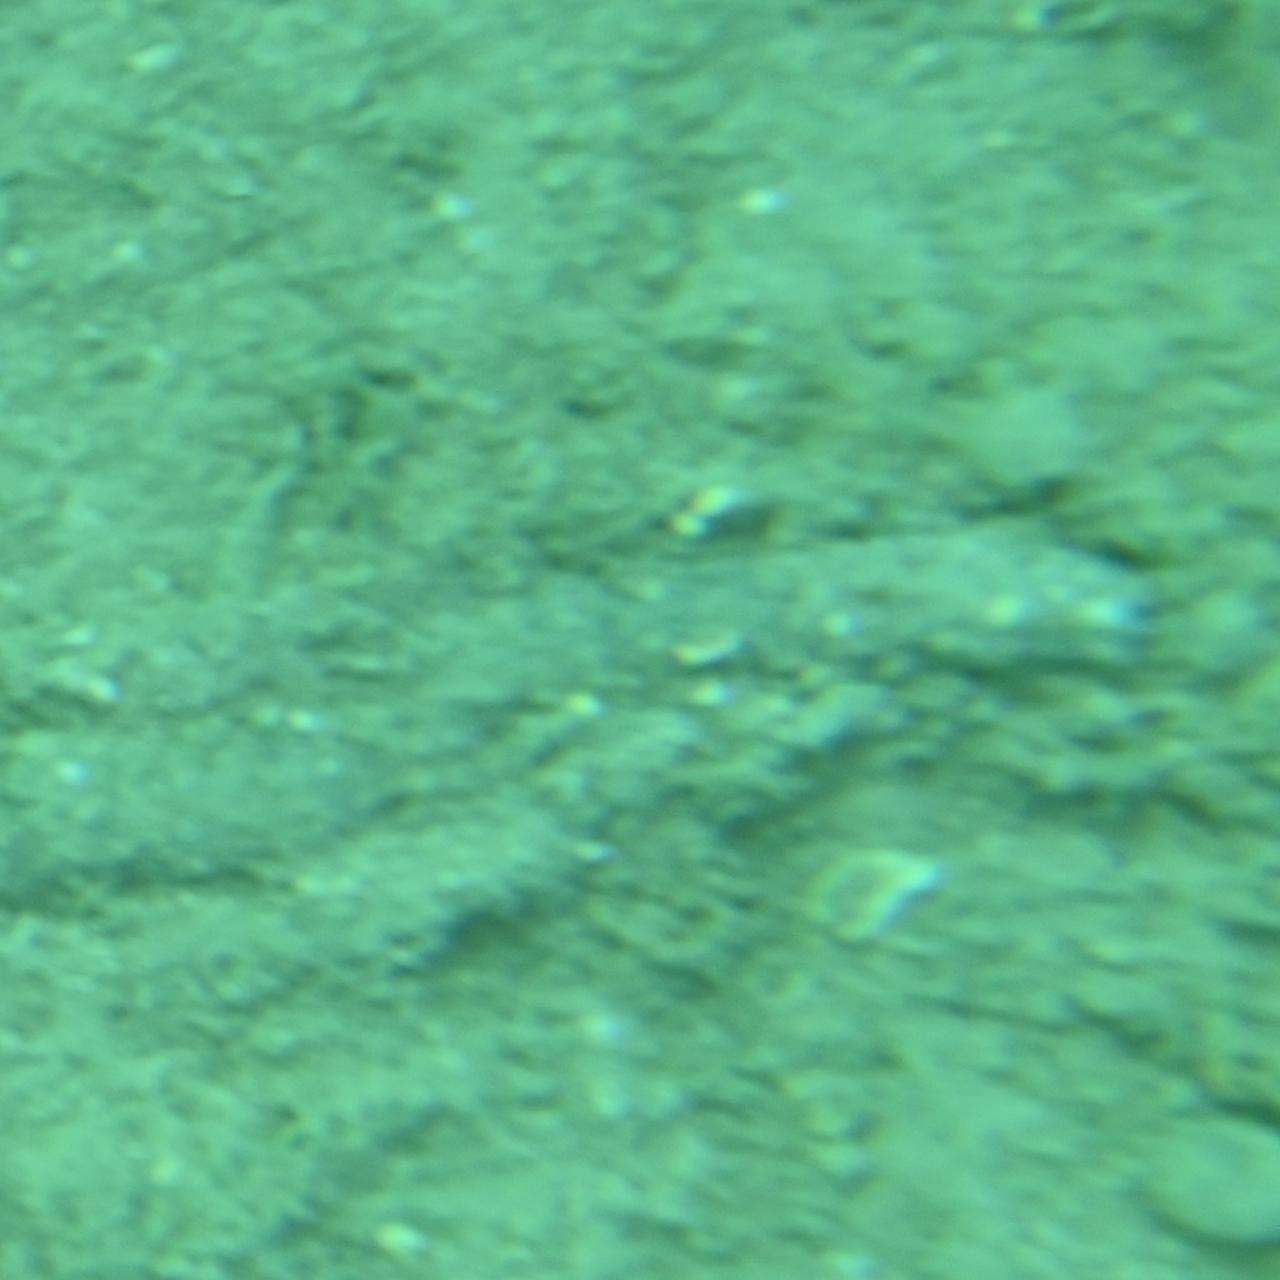Holothuria tubulosa: (250, 514, 1204, 766)
